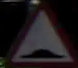Speed Breaker ahead: (4, 11, 67, 59)
